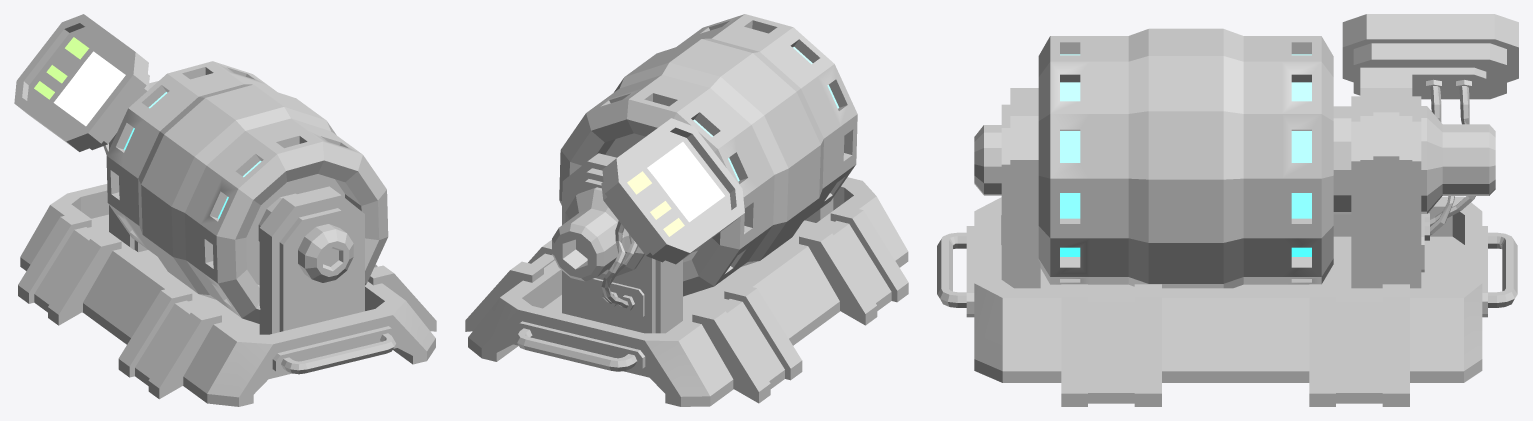
Rendered from entity344954.glb.
3 renders of one model, left to right at view 1: azimuth 30°, elevation 25°; view 2: azimuth 150°, elevation 25°; view 3: azimuth 270°, elevation 25°, orthographic. The views are drawn at different scales.
Visible parts, largest first — view 1: node_SM_Prop_PowerGenerator_03; view 2: node_SM_Prop_PowerGenerator_03; view 3: node_SM_Prop_PowerGenerator_03.
Boxes of the visible parts, x1,y1,x2,y2 form: node_SM_Prop_PowerGenerator_03: (14, 14, 436, 406); node_SM_Prop_PowerGenerator_03: (465, 14, 908, 406); node_SM_Prop_PowerGenerator_03: (937, 14, 1518, 406).
Bounding box in the file's own units: 1.74 × 1.39 × 2.57.
